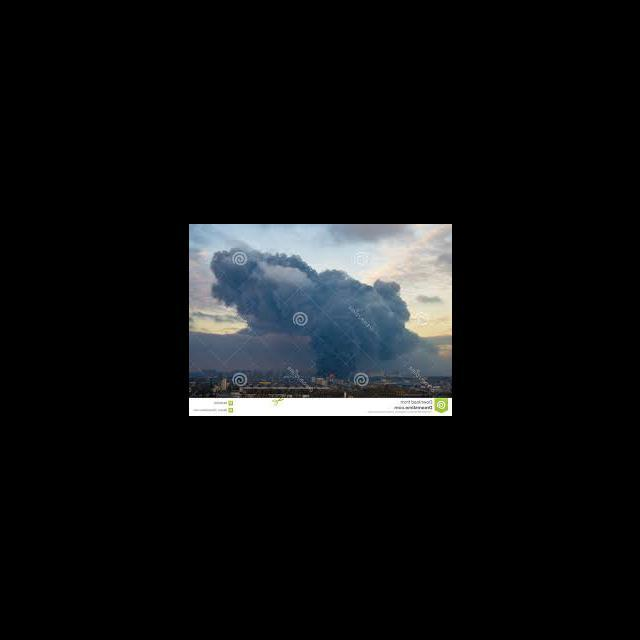Smoke: (210, 247, 411, 372)
